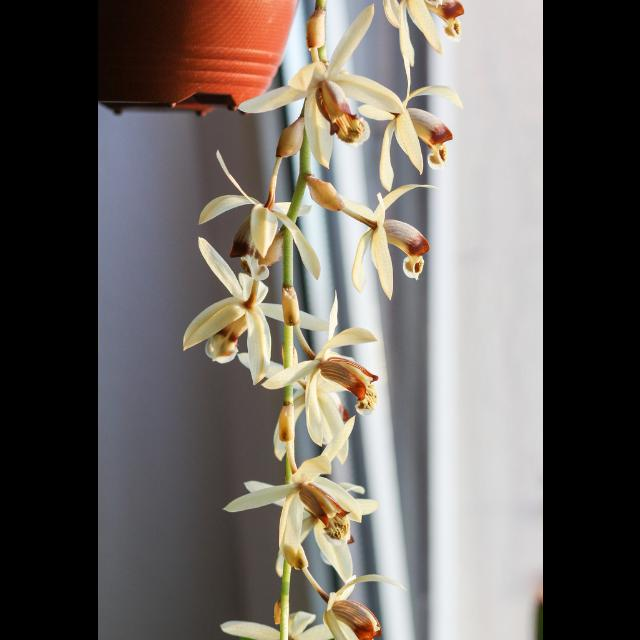Flower: (179, 1, 463, 640), (230, 452, 378, 558)
